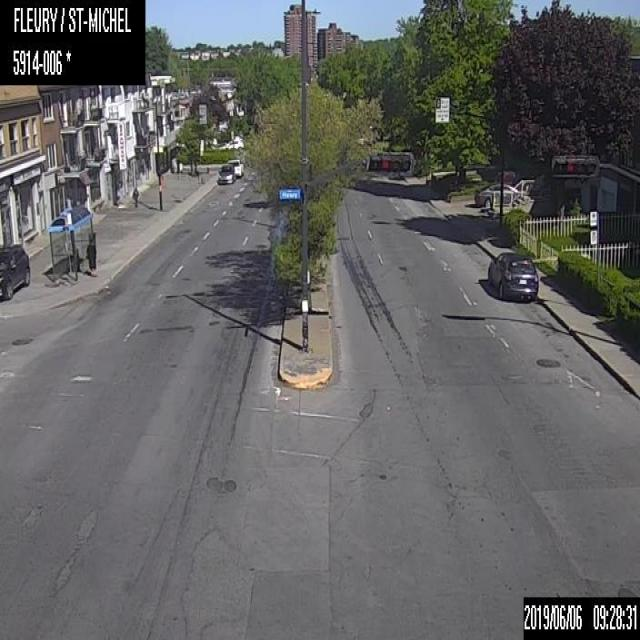pedestrian: (84, 228, 96, 277), (131, 181, 138, 207)
vehicle: (486, 249, 538, 300), (0, 241, 32, 303), (472, 179, 521, 207), (215, 162, 235, 184), (228, 157, 245, 178)
